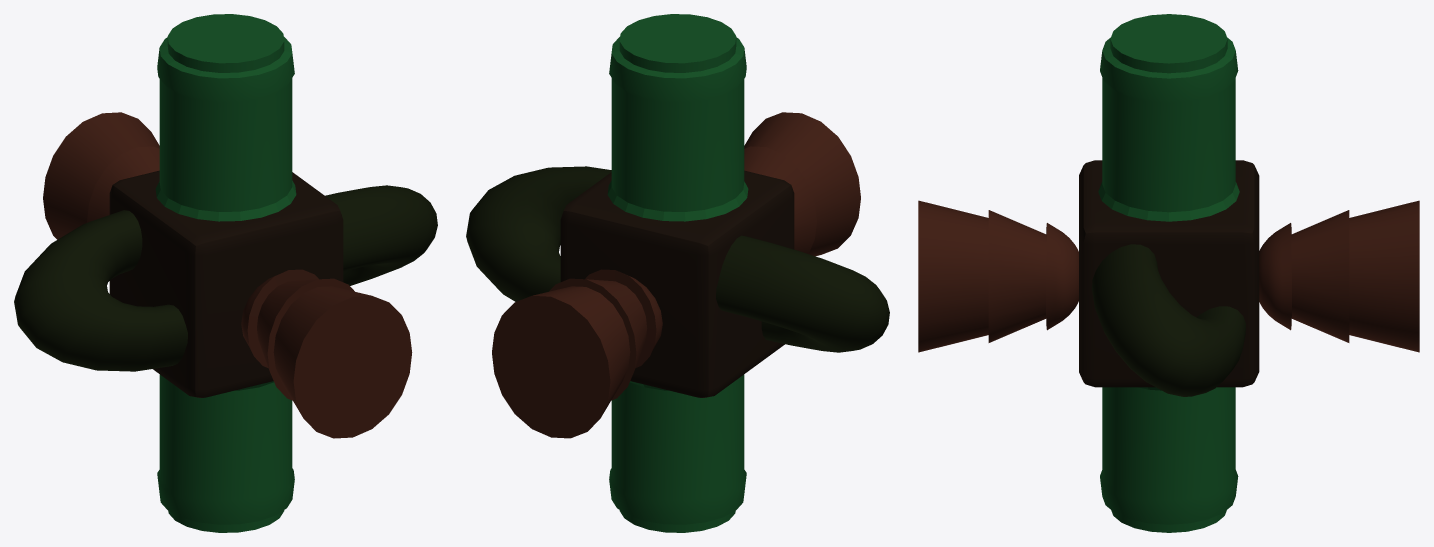
The model's file is chew toy.fbx.
The picture shows the model from 3 angles, left to right: view 1: azimuth 30°, elevation 25°; view 2: azimuth 150°, elevation 25°; view 3: azimuth 270°, elevation 25°; orthographic projection.
Parts seen in each view (by area): view 1: pCylinder3; view 2: pCylinder3; view 3: pCylinder3.
Part boxes in pixels (x1,y1,x2,y2): pCylinder3: (14, 14, 437, 532); pCylinder3: (466, 14, 889, 532); pCylinder3: (918, 14, 1419, 532).
Bounding box in the file's own units: 2.64 × 2.87 × 2.78.
